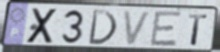3: (59, 8, 87, 46)
D: (86, 9, 119, 47)
E: (148, 10, 183, 49)
T: (187, 13, 209, 47)
V: (121, 10, 153, 47)
X: (25, 8, 60, 45)
